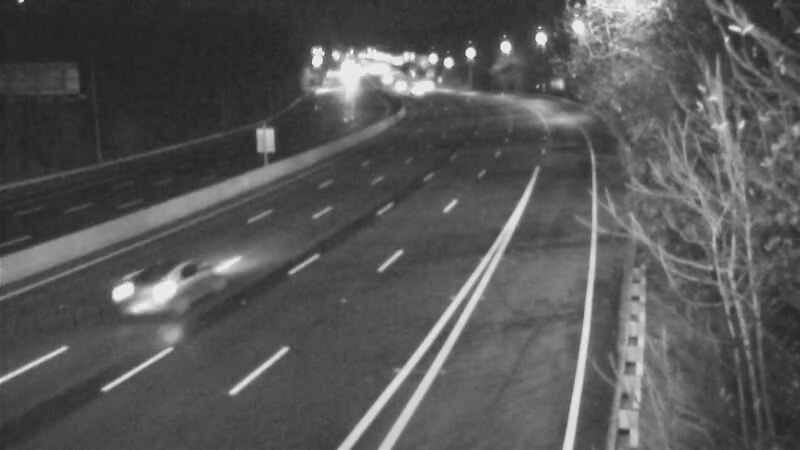vehicle: (112, 257, 192, 337)
